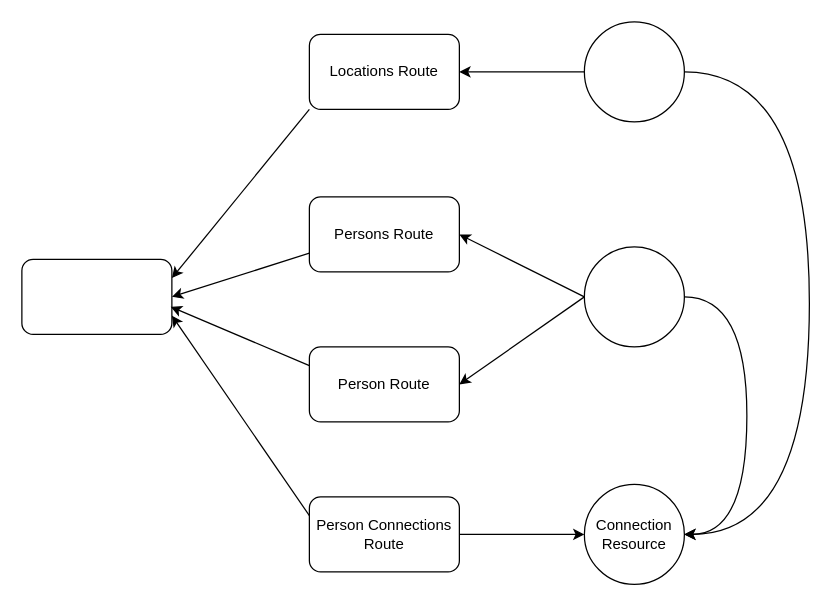
Some shapes in this 831 by 606 pixel diagram are drawn without their labels. Here are the shapes that lost their labels. From the top down, the box of each, then its label:
(583, 21, 684, 122): Locations Service
(21, 258, 172, 334): Frontend Client
(583, 246, 684, 347): Persons Resource
